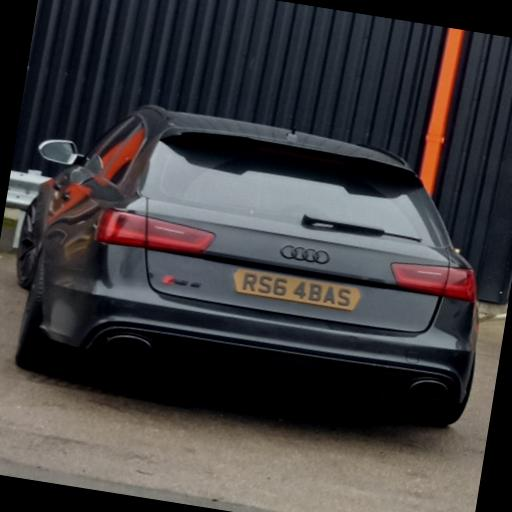numberplates: (234, 269, 360, 311)
